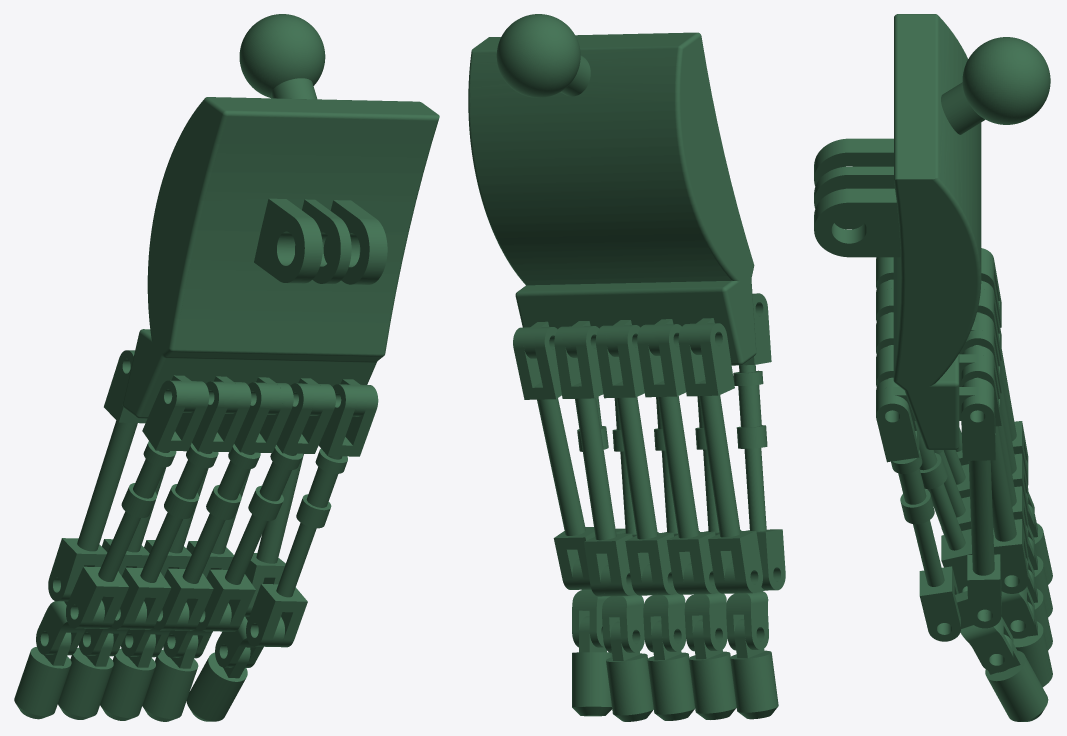
The model's file is terminator_foot_opt.glb.
3 views of the same model, side by side, from view 1: azimuth 30°, elevation 25°; view 2: azimuth 150°, elevation 25°; view 3: azimuth 270°, elevation 25° (orthographic). The views are drawn at different scales.
Visible parts, largest first — view 1: terminator; view 2: terminator; view 3: terminator.
Part boxes in pixels (<box>): terminator: <box>14,14,439,721</box>; terminator: <box>468,14,785,721</box>; terminator: <box>814,14,1052,721</box>.
Bounding box in the file's own units: 3.86 × 7.14 × 2.17.
